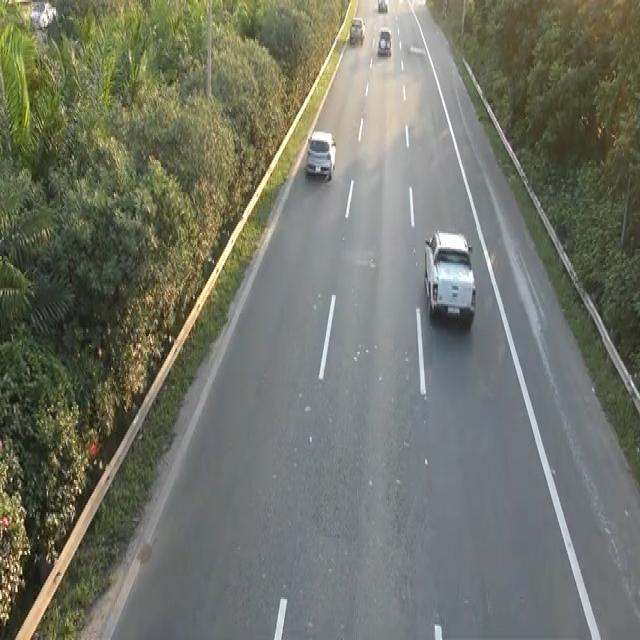bus: (304, 126, 336, 182)
car: (421, 226, 479, 332), (376, 27, 392, 57)
